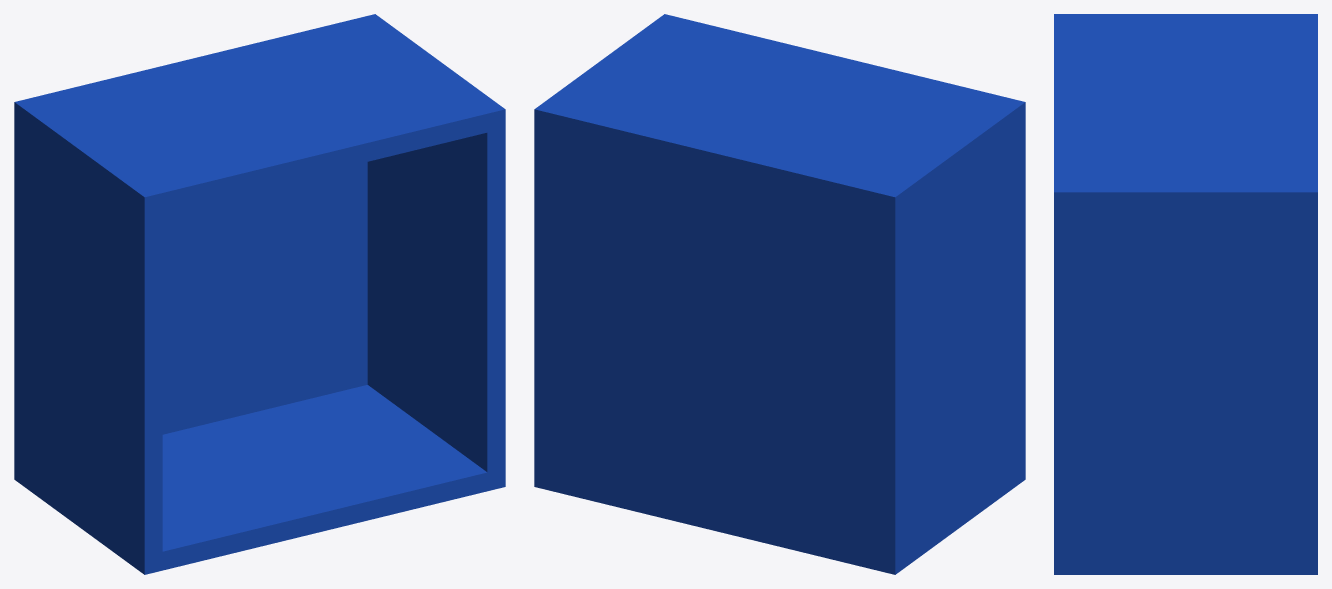
Rendered from pensileBlu.obj.
3 views of the same model, side by side, from view 1: azimuth 30°, elevation 25°; view 2: azimuth 150°, elevation 25°; view 3: azimuth 270°, elevation 25° (orthographic).
Visible parts, largest first — view 1: Box43_1; view 2: Box43_1; view 3: Box43_1.
Part boxes in pixels (x1=…): Box43_1: x1=14, y1=14, x2=505, y2=574; Box43_1: x1=534, y1=14, x2=1025, y2=574; Box43_1: x1=1054, y1=14, x2=1317, y2=574.
Size of the model in its own units: 40 by 40 by 25.
